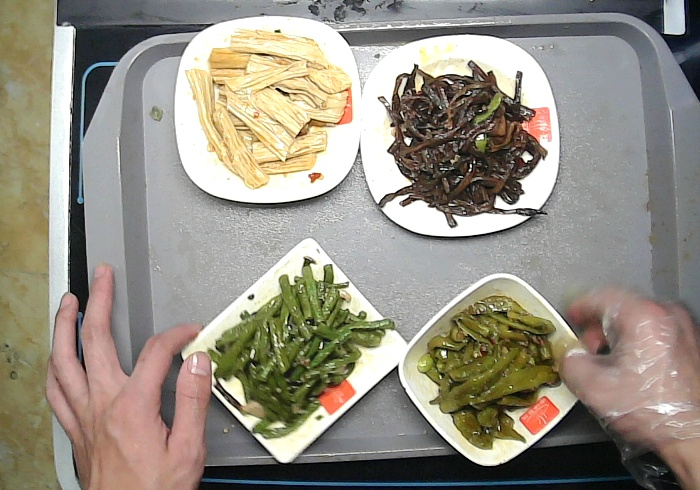SHKJ-Bai_Se_Cai_Die: (174, 16, 363, 207)
SHKJ-Bai_Se_Si_Fang_Cai_Die: (360, 34, 561, 232)
SHKJ-Bai_Se_Xiao_Fang_Die: (398, 271, 591, 470)
SHKJ-Si_Fang_Min: (181, 238, 411, 463)
